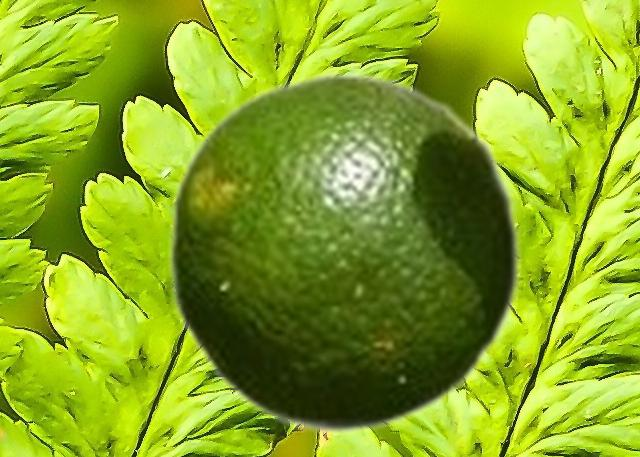calamansi: (165, 70, 523, 433)
